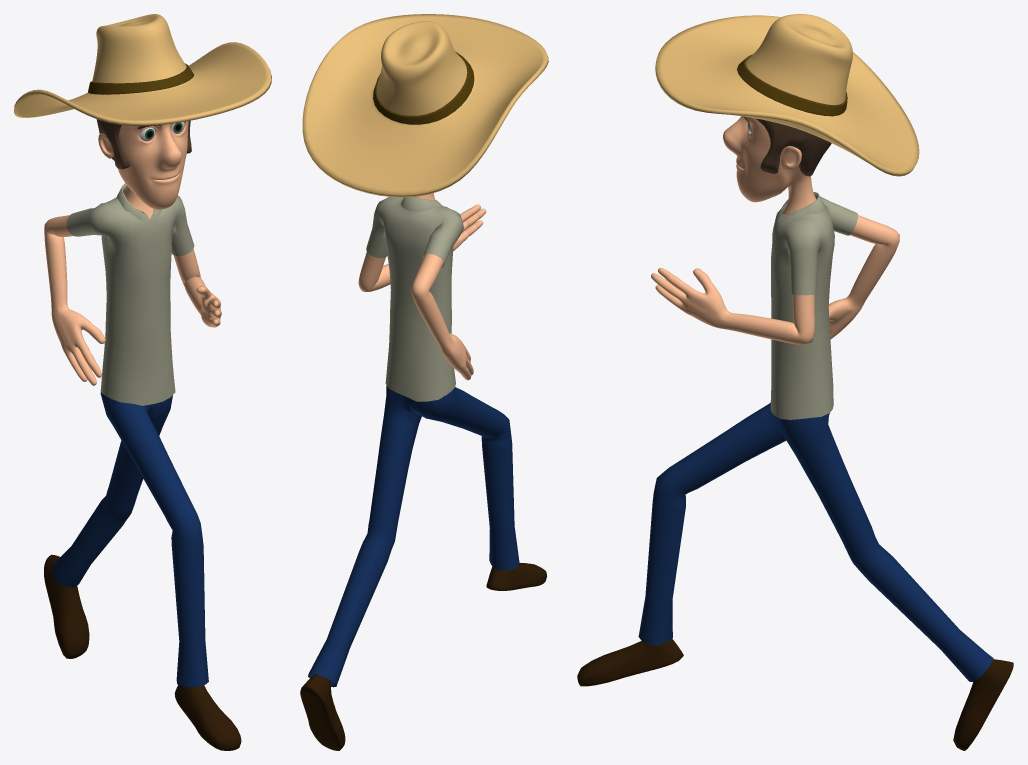
File: GuyRun0.obj
The picture shows the model from 3 angles, left to right: view 1: azimuth 30°, elevation 25°; view 2: azimuth 150°, elevation 25°; view 3: azimuth 270°, elevation 25°; orthographic projection. The views are drawn at different scales.
Bounding box in the file's own units: 2.18 × 7.33 × 4.02.
